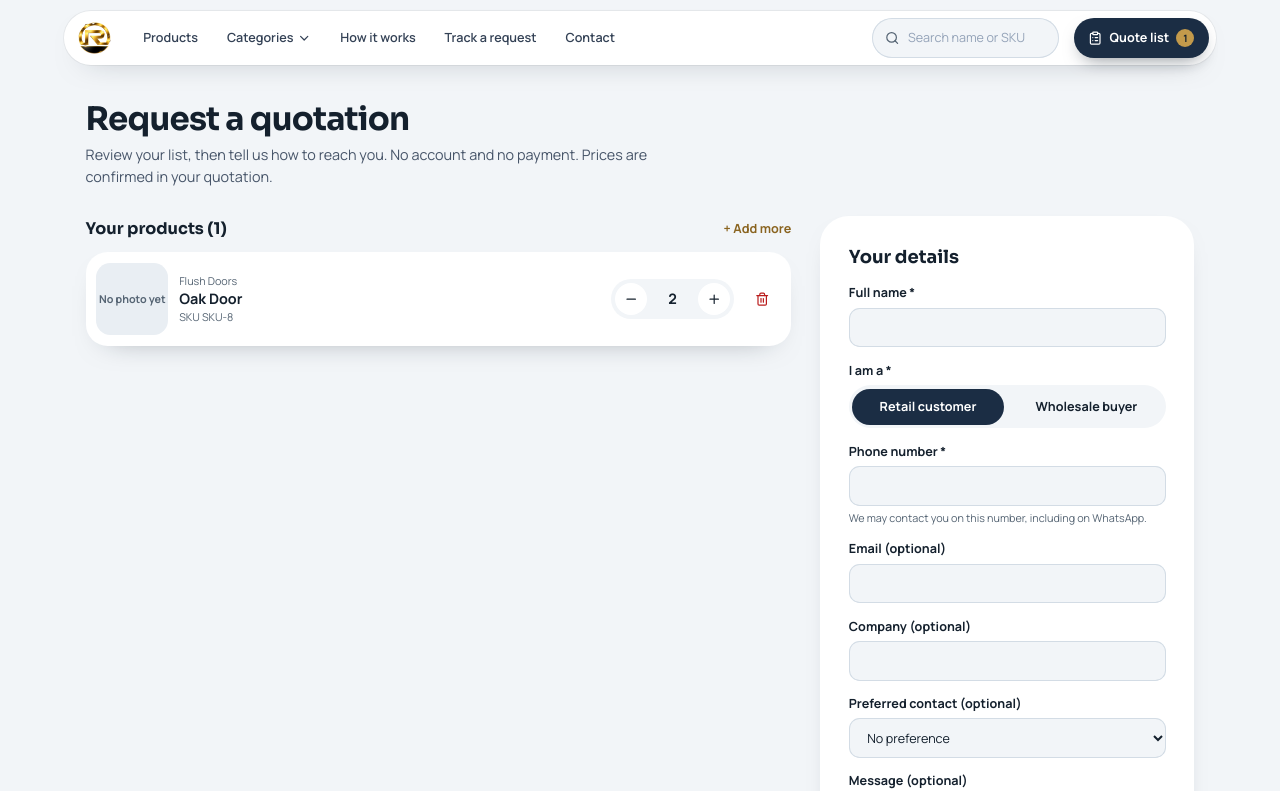
Test: server rejection is shown to the customer and the list is kept
In the field labelled "Full name *": (1007, 328) [849,308,1166,347], type "Chinedu Okafor"
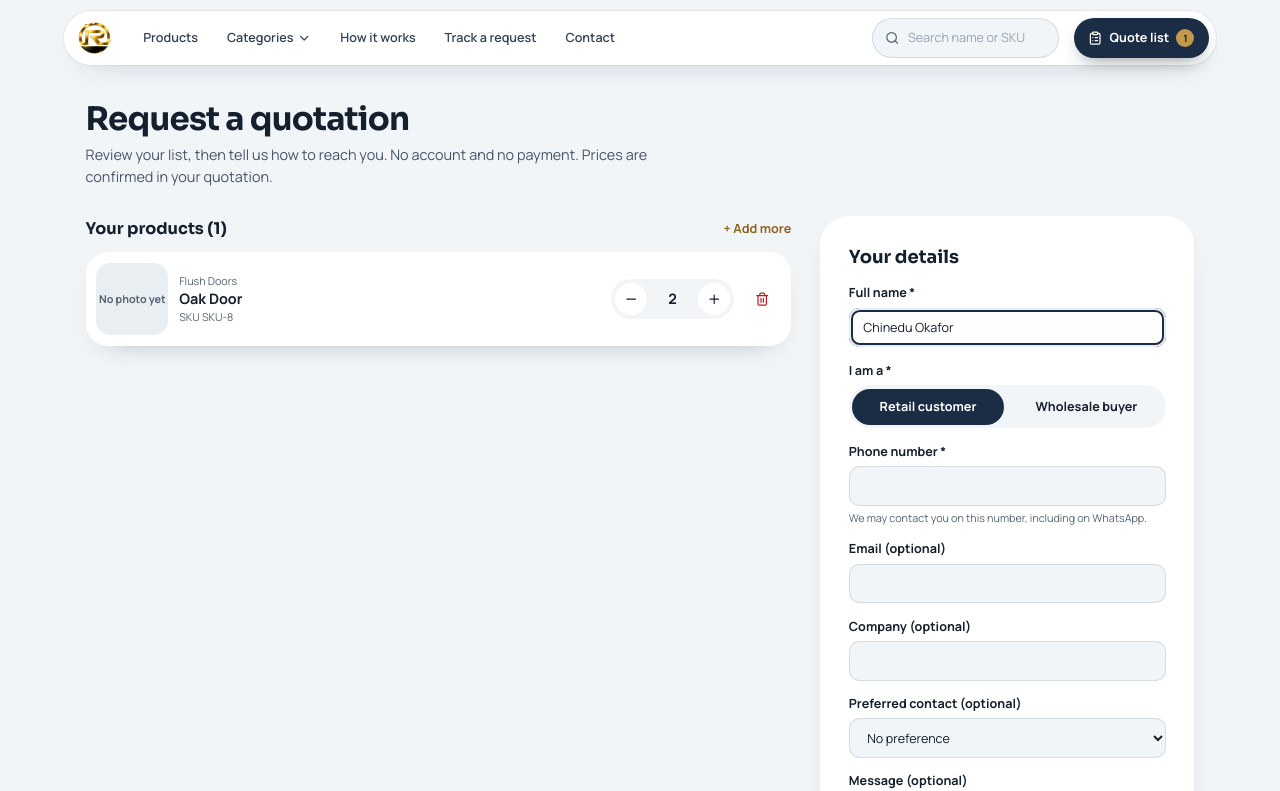
In the field labelled "Phone number *": (1007, 486) [849,466,1166,506], type "08031234567"
(page scrolled)
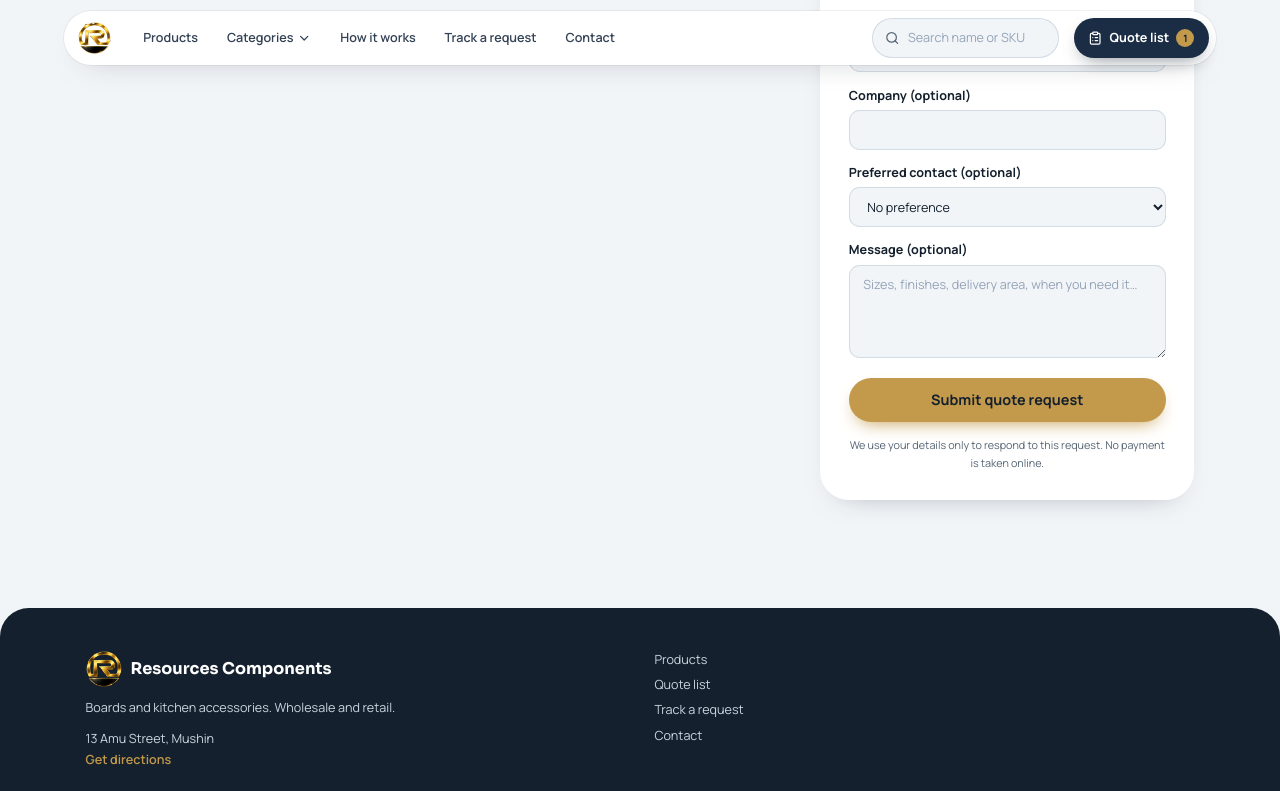
Click the button "Submit quote request": (1007, 400) [849,378,1166,422]
(page scrolled)
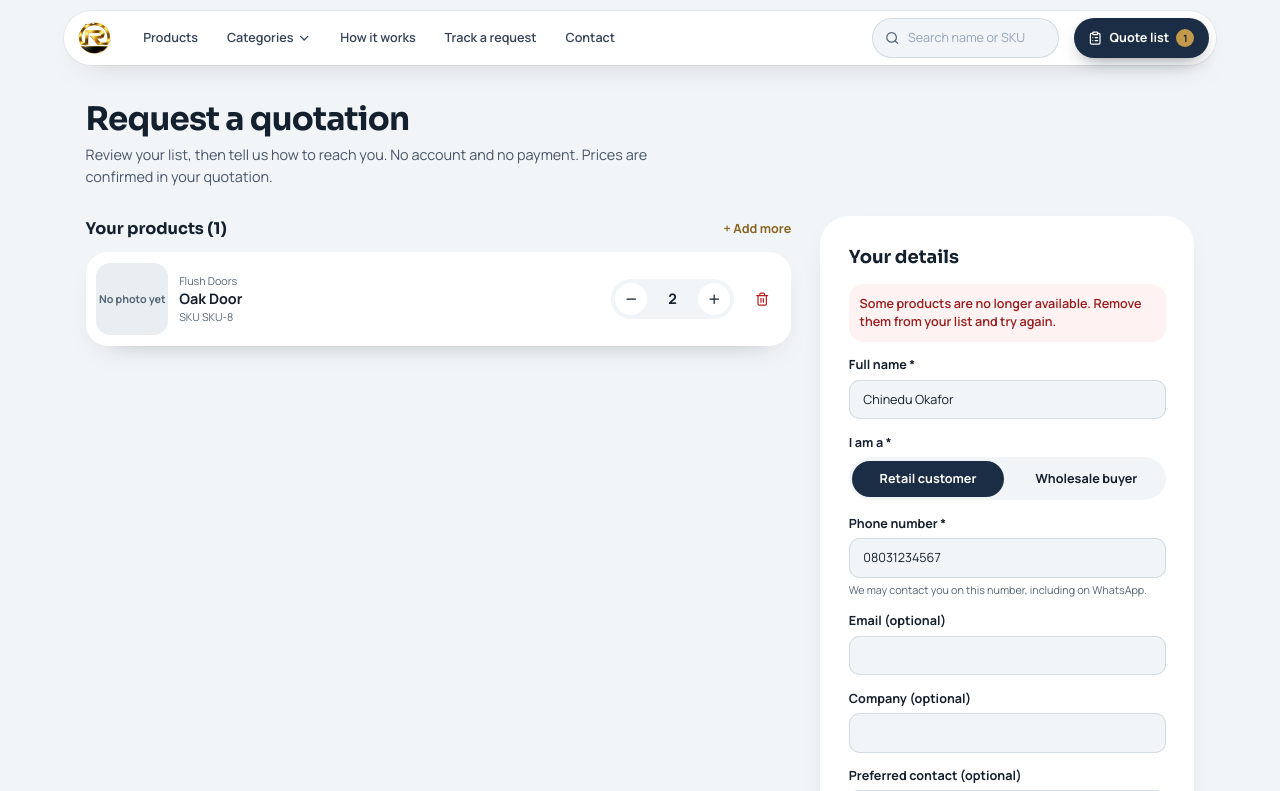
Expected: the message shows "no longer available", [860,295,1142,330]
